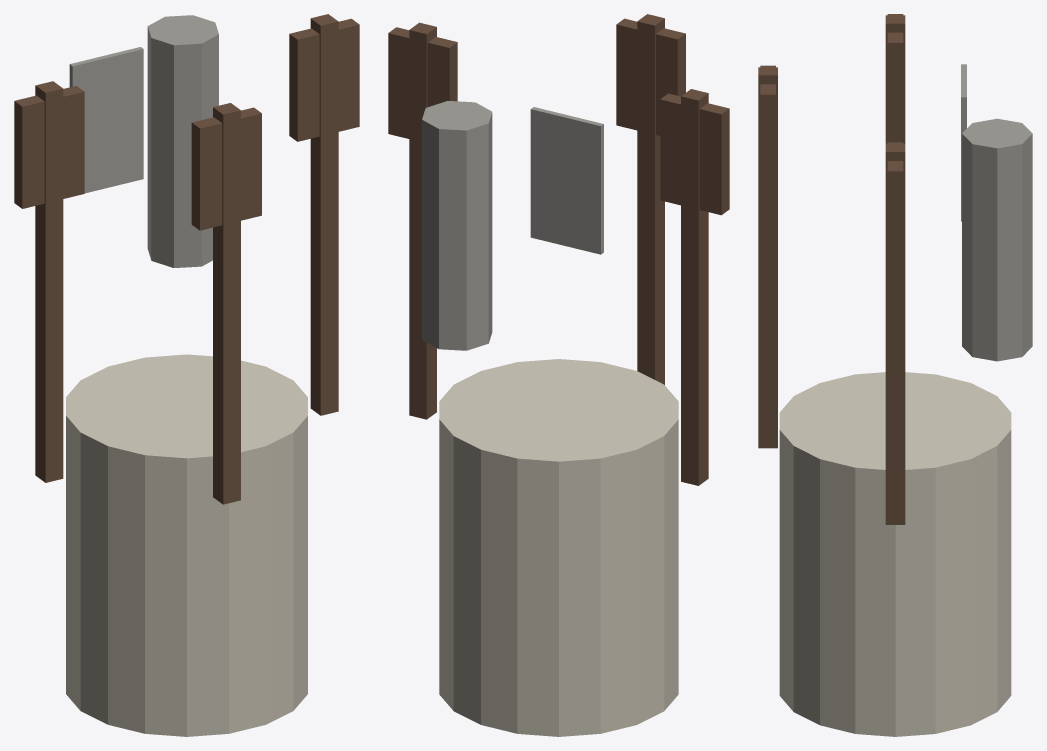
File: kitchen-utensil-holder.glb
3 renders of one model, left to right at view 1: azimuth 30°, elevation 25°; view 2: azimuth 150°, elevation 25°; view 3: azimuth 270°, elevation 25°, orthographic. The views are drawn at different scales.
Parts seen in each view (by area): view 1: enamel, wood, brushed; view 2: enamel, wood, brushed; view 3: enamel, wood, brushed.
Boxes of the visible parts, left/top/right/bottom form: enamel: left=66, top=354, right=307, bottom=736; wood: left=14, top=14, right=359, bottom=504; brushed: left=69, top=15, right=218, bottom=267; enamel: left=439, top=359, right=678, bottom=736; wood: left=388, top=14, right=729, bottom=485; brushed: left=422, top=101, right=603, bottom=350; enamel: left=779, top=372, right=1011, bottom=736; wood: left=758, top=14, right=905, bottom=524; brushed: left=961, top=64, right=1032, bottom=361.
Bounding box in the file's own units: 0.19 × 0.34 × 0.14.
